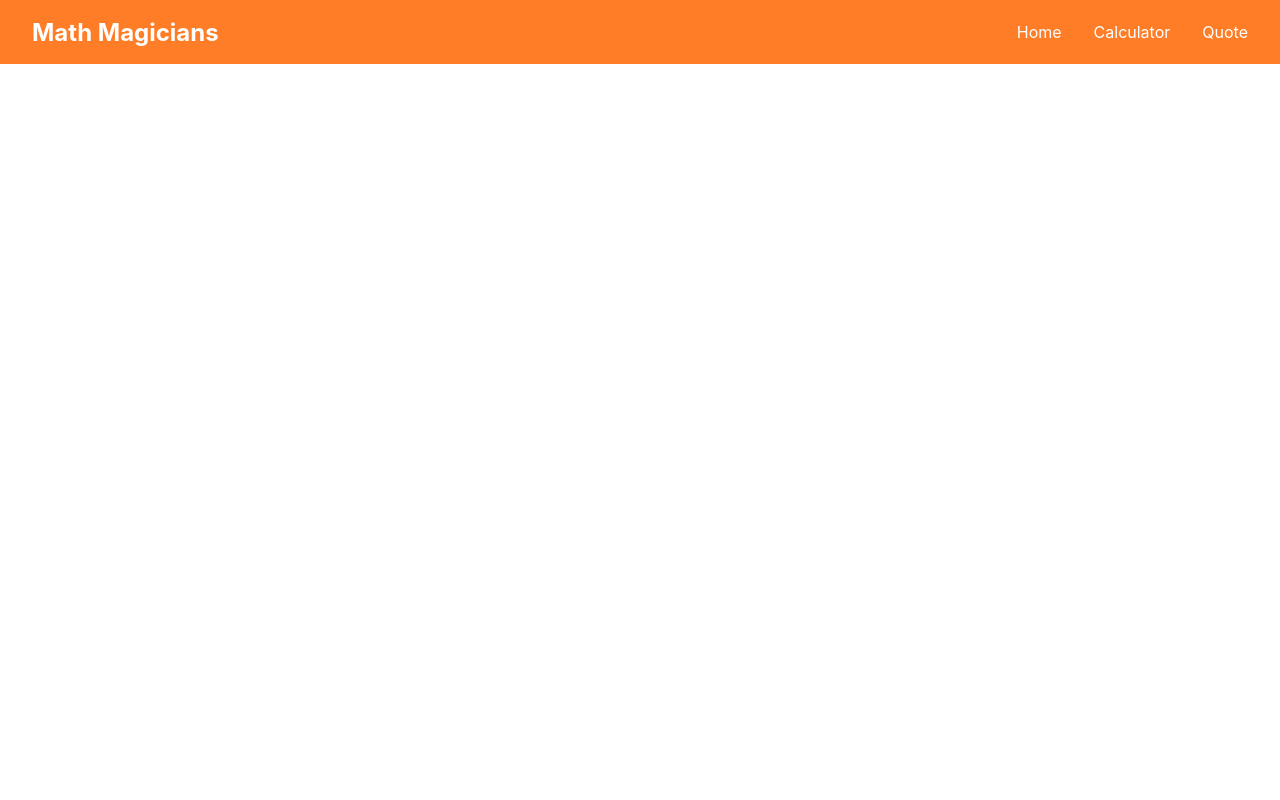
Test: Navbar tests › Navigate to Calculator page from Home page
The width and height of the screenshot is (1280, 800).
What coordinates should you click on to do the following:
click the link with id "calc-link"
I would click on:
 (1132, 32)
Its box is [1094, 22, 1170, 42].
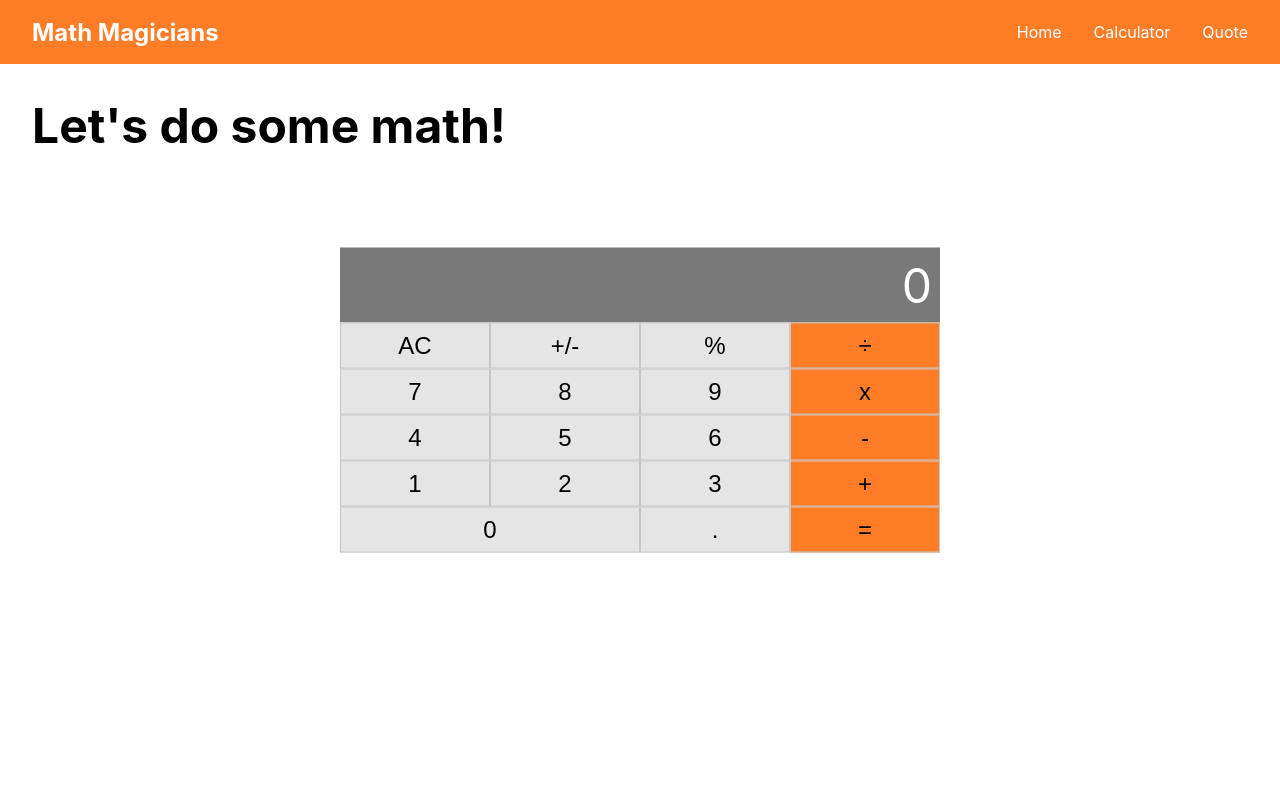
Now the text "some" is shown, box [32, 96, 506, 155]
